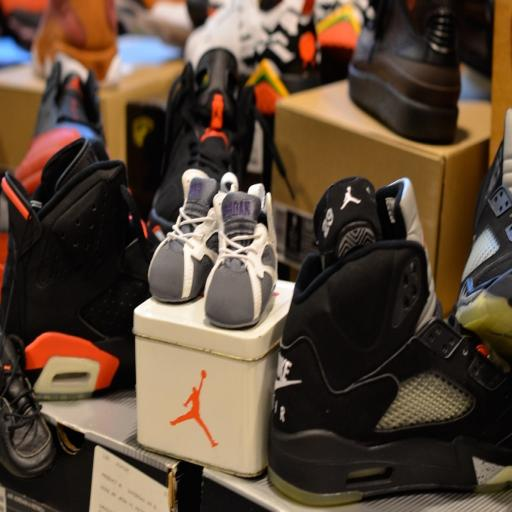shoe: (268, 178, 512, 505), (0, 139, 156, 399), (147, 48, 285, 239), (348, 0, 461, 143), (454, 110, 512, 357), (14, 61, 106, 195), (148, 169, 238, 303), (204, 184, 278, 328), (0, 335, 56, 478)
